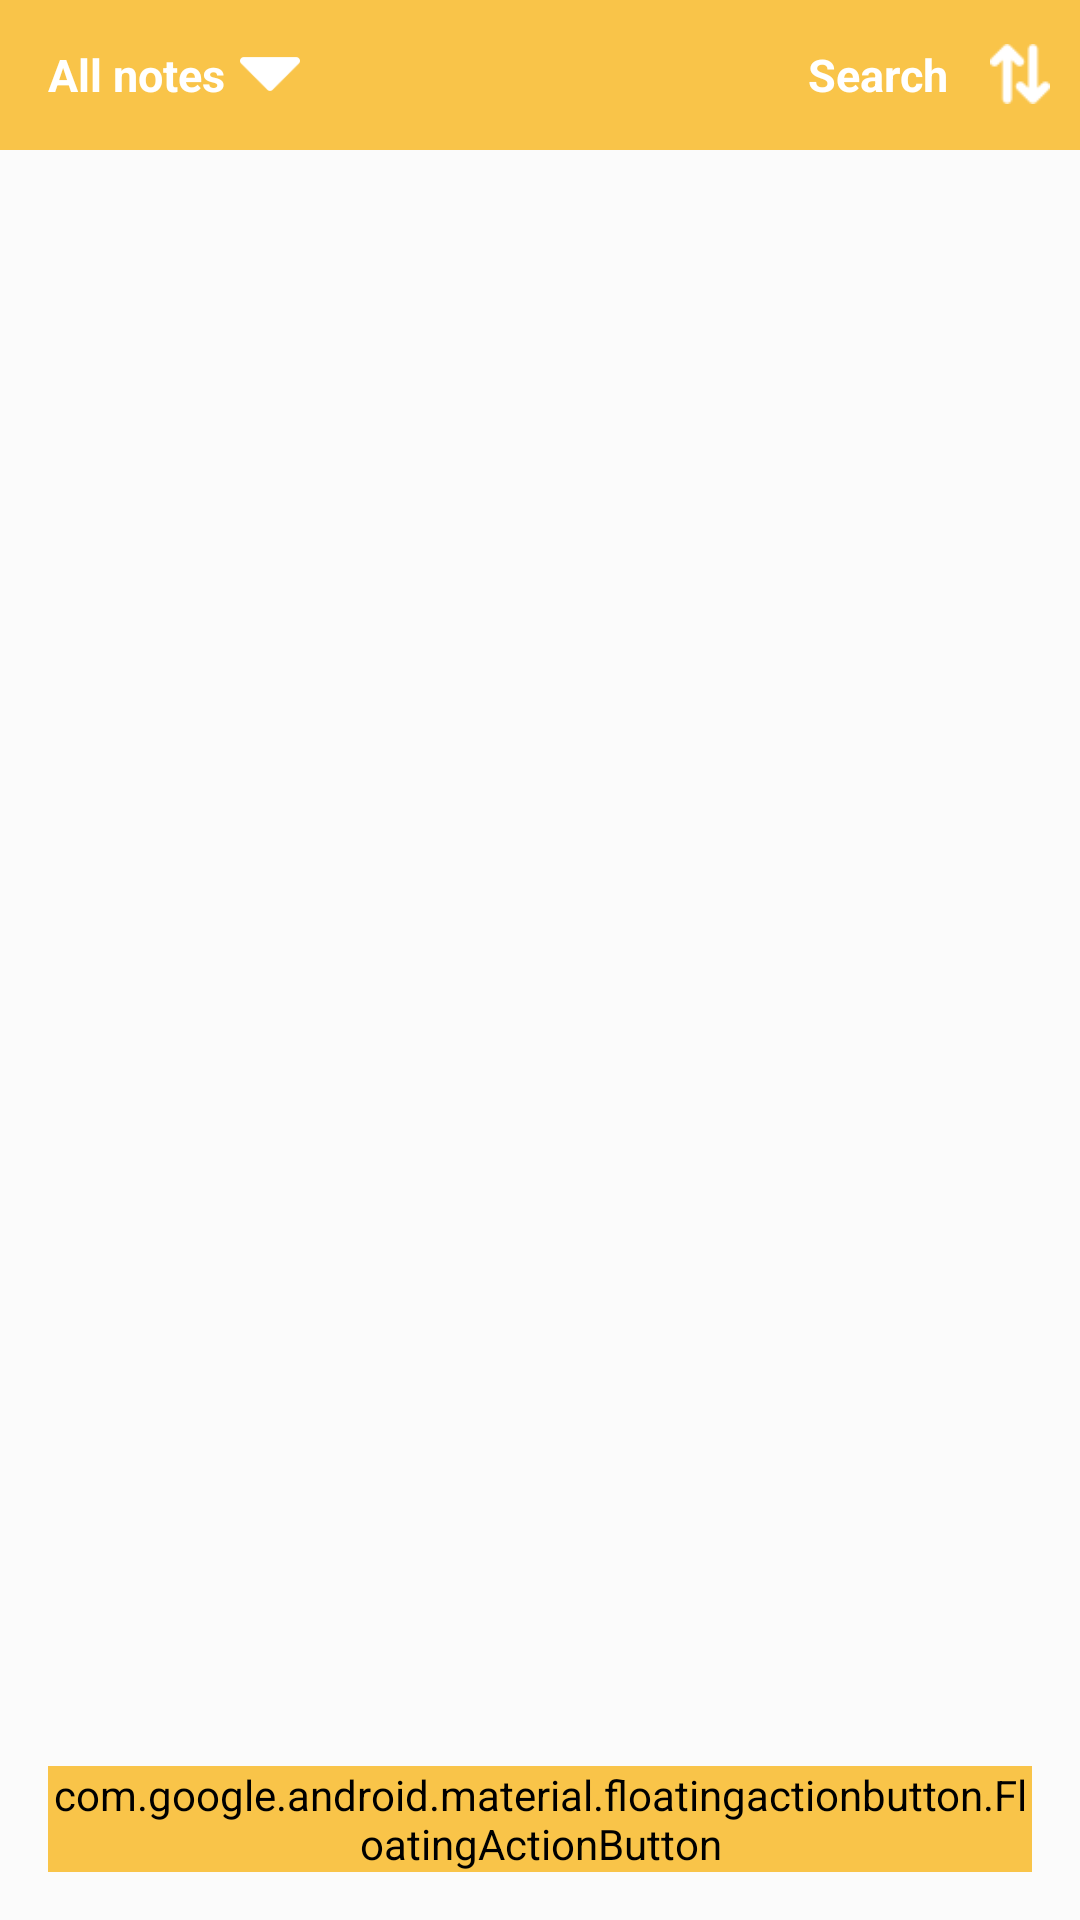

Screen size 1080x1920. Icon name, then its center in pixels as [x,y]:
down: [270,74]
